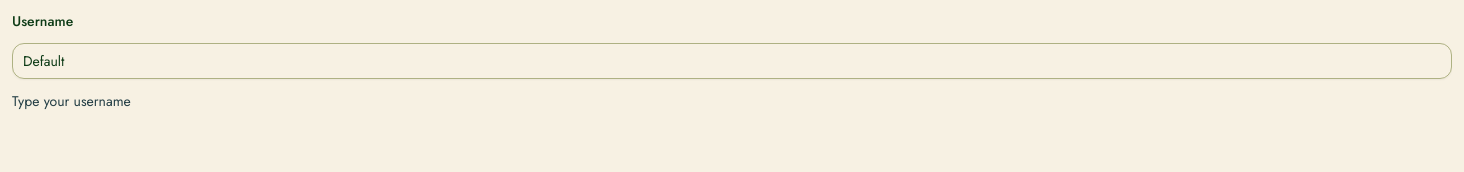
Test: TextField › validation-error
Type "MiValorConMuchosMasDe20Caracteres" into the field labelled "Username". click: (732, 61)
box: 12,43 -> 1452,79
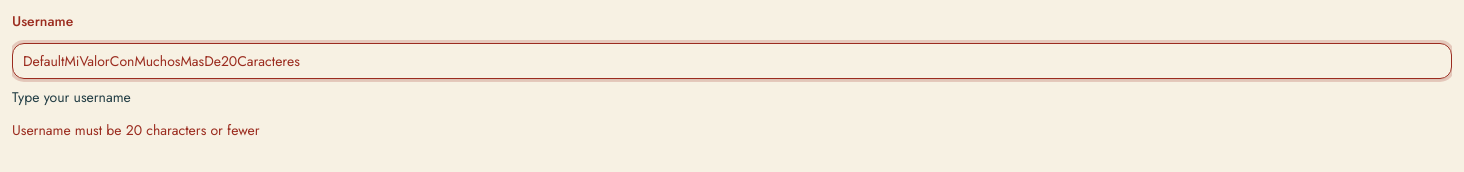
expect the text "Username must be 20 characters or fewer" is shown: met, box 12,120 -> 260,140
Clear the field labelled "Username". click: (732, 61)
box: 12,43 -> 1452,79
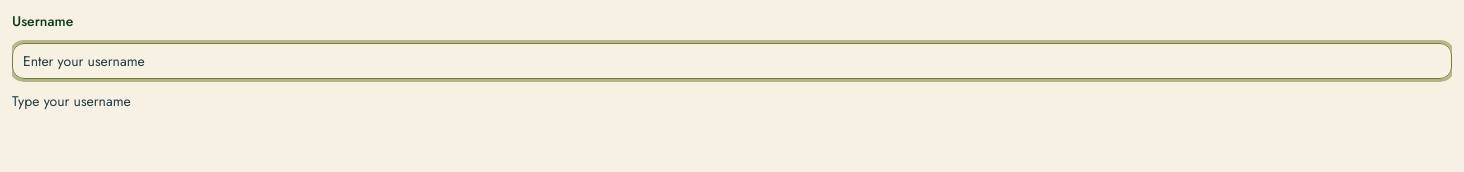
expect the text "Username must be 20 characters or fewer" is gone: met
